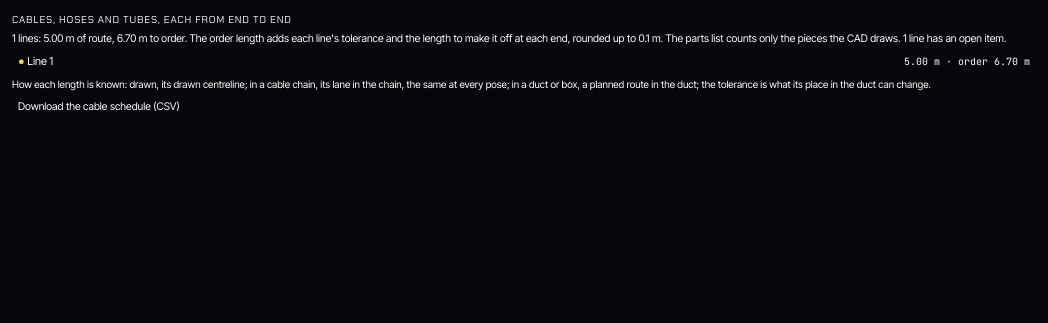
Test: CableSchedule › opens a line: its ends, each piece of its route, its order length and its open items
This screenshot has width=1048, height=323.
Later steps or results of the test are not shown.
Click the button with test id "cable": (922, 62) [12, 51, 1036, 72]
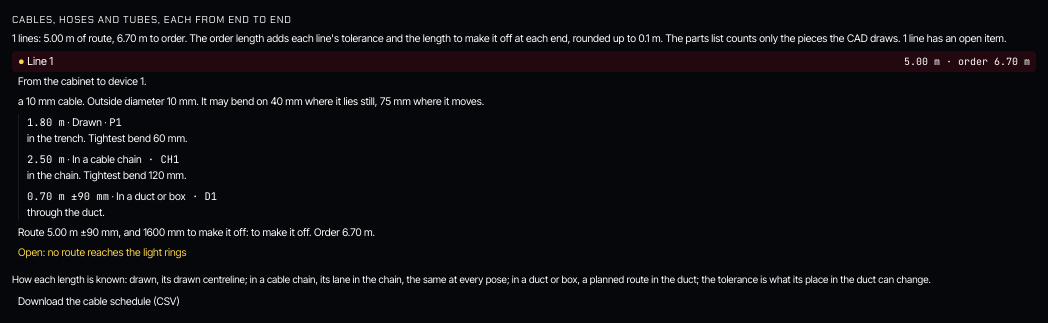
Result: the element with test id "cable-detail" shows "From the cabinet to device 1." at [12, 72, 1036, 266]
Result: the element with test id "cable-detail" shows "±90 mm" at [78, 226, 119, 238]
Result: the text with test id "cable-open" shows "no route reaches the light rings" at [48, 246, 186, 258]
